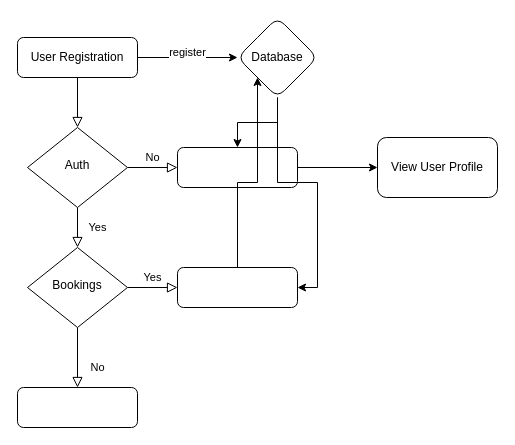
The diagram is 515 pixels wide and 445 high, and some of its shapes have lost their labels. The shapes that lost their labels are listed below. From the top down, each one's centre as x and y in pixels, then its label:
the point at 237,167: Login
the point at 237,287: Payment
the point at 77,407: Add Or Remove Listings
